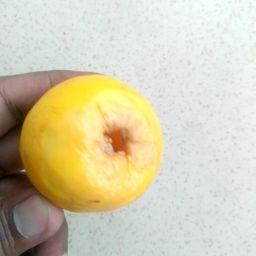Unripe: (27, 79, 162, 206)
